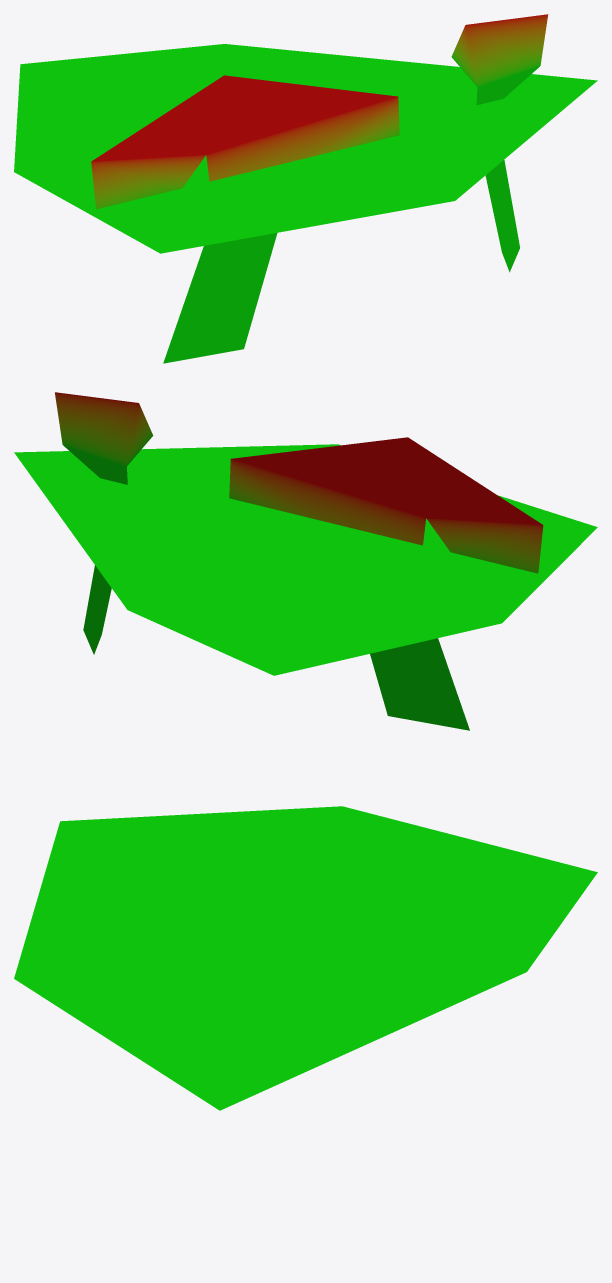
Rendered from Var7_LOD3.fbx.
3 views of the same model, one above another, from view 1: azimuth 30°, elevation 25°; view 2: azimuth 150°, elevation 25°; view 3: azimuth 270°, elevation 25° (orthographic). The views are drawn at different scales.
Parts seen in each view (by area): view 1: _0f74_Var7_LOD3; view 2: _0f74_Var7_LOD3; view 3: _0f74_Var7_LOD3.
Part boxes in pixels (<box>): _0f74_Var7_LOD3: <box>14,14,597,363</box>; _0f74_Var7_LOD3: <box>14,392,597,730</box>; _0f74_Var7_LOD3: <box>14,806,597,1110</box>.
Size of the model in its own units: 143 by 71.84 by 116.
